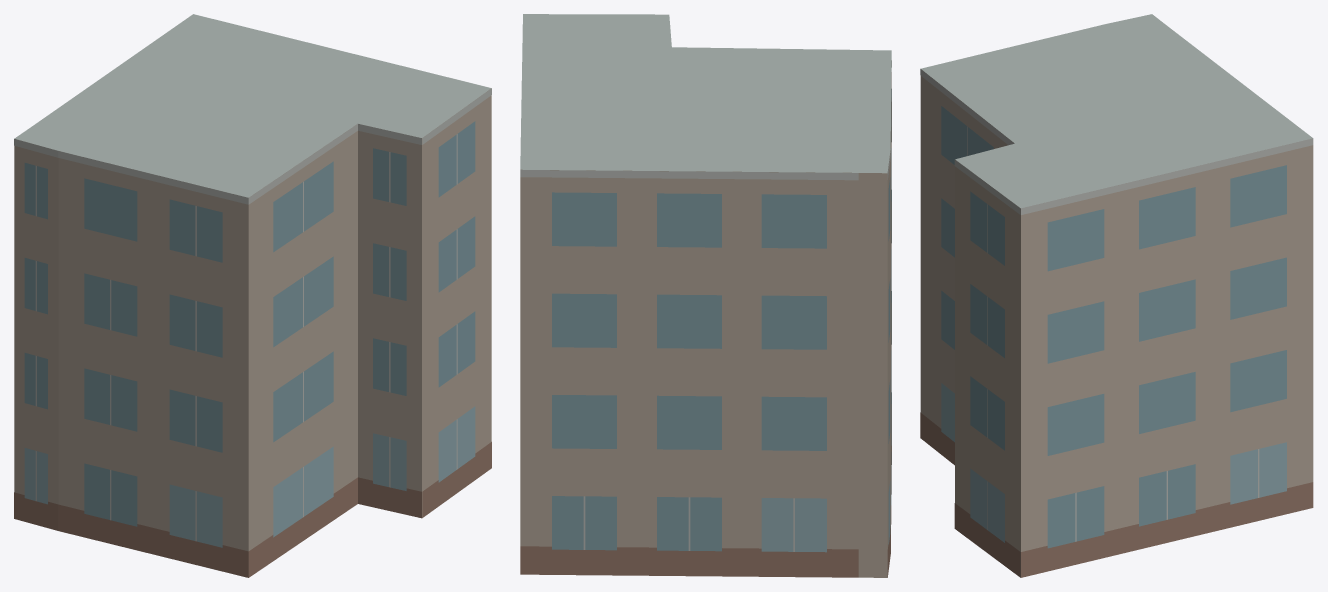
The model's file is survey-upis-32600226.glb.
The picture shows the model from 3 angles, left to right: view 1: azimuth 30°, elevation 25°; view 2: azimuth 150°, elevation 25°; view 3: azimuth 270°, elevation 25°; orthographic projection. The views are drawn at different scales.
Visible parts, largest first — view 1: survey-upis-32600226.tmp; view 2: survey-upis-32600226.tmp; view 3: survey-upis-32600226.tmp.
Part boxes in pixels (bbox=[...]): survey-upis-32600226.tmp: bbox=[14, 14, 491, 577]; survey-upis-32600226.tmp: bbox=[520, 14, 891, 577]; survey-upis-32600226.tmp: bbox=[920, 14, 1313, 577].
Bounding box in the file's own units: 15 × 13.28 × 12.81.
